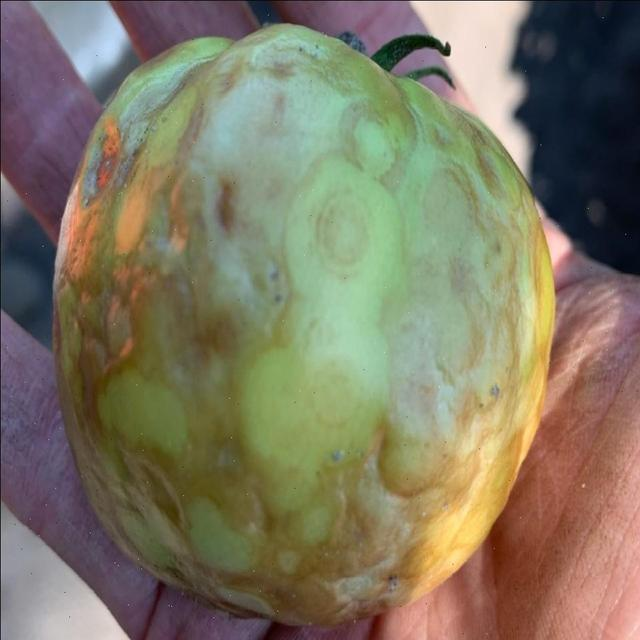Spotted wilt Virus Fruit: (13, 124, 73, 467)
